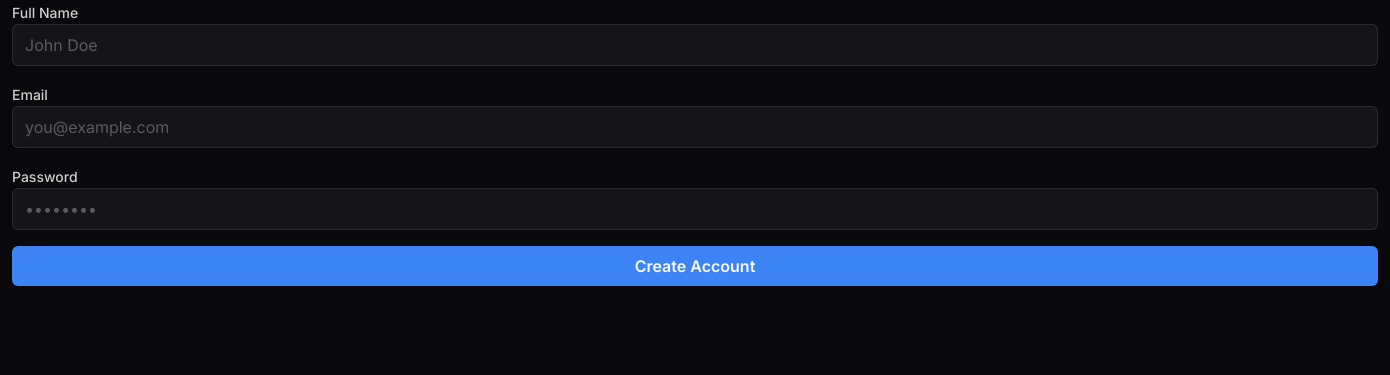
it: EmailSignUp Component › prevents weak passwords from signing up
In the field with placeholder "John Doe": (695, 45) x1=12 y1=24 x2=1378 y2=66, type "Test User"
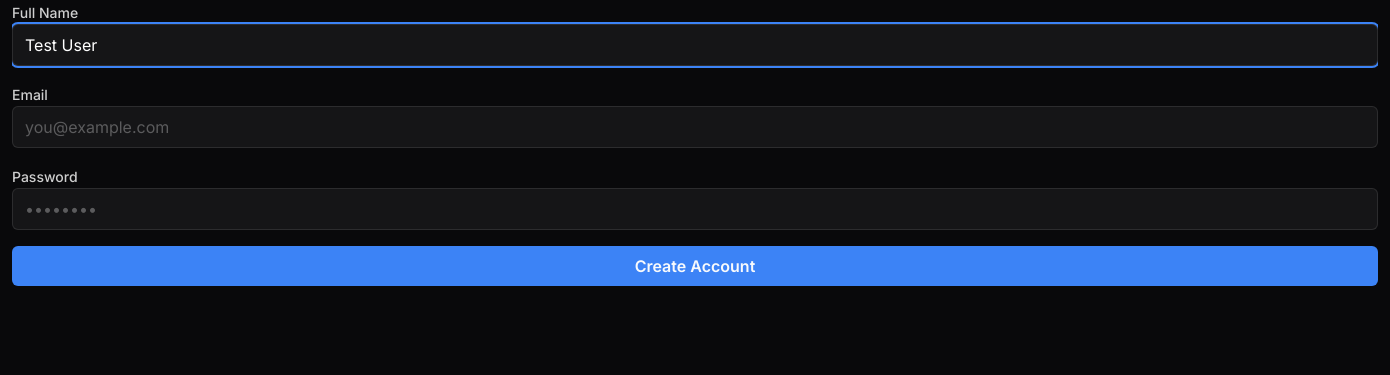
In the field with placeholder "you@example.com": (695, 127) x1=12 y1=106 x2=1378 y2=148, type "test@example.com"
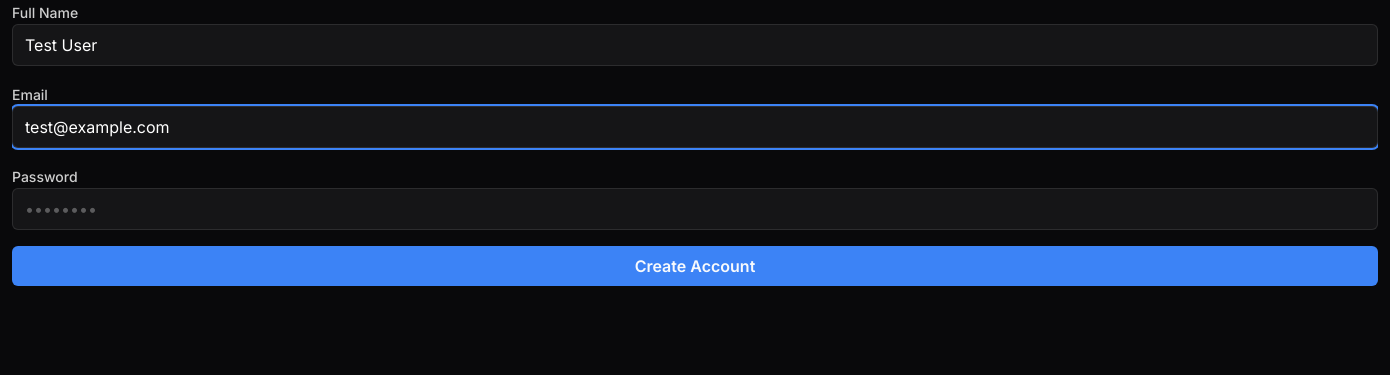
In the password field with placeholder "••••••••": (695, 209) x1=12 y1=188 x2=1378 y2=230, type "weak"
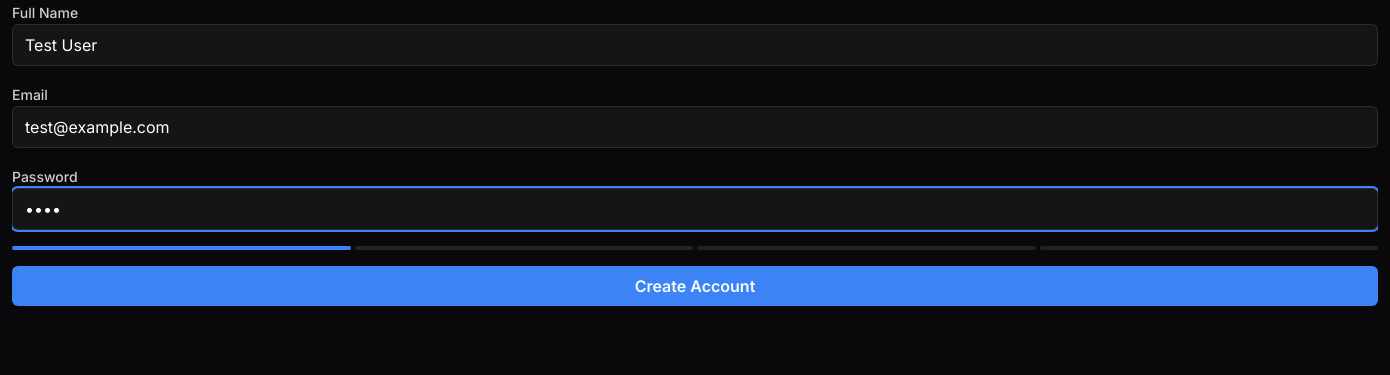
Click the button "Create Account": click(695, 286) x1=12 y1=266 x2=1378 y2=306
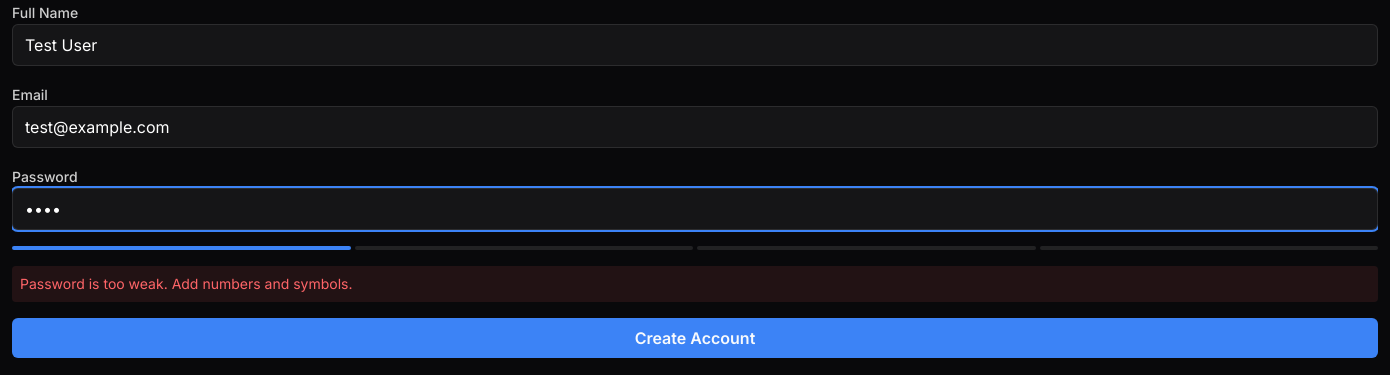
Check: the text "Password is too weak. Add numbers and symbols." is shown, box x1=12 y1=266 x2=1378 y2=302
